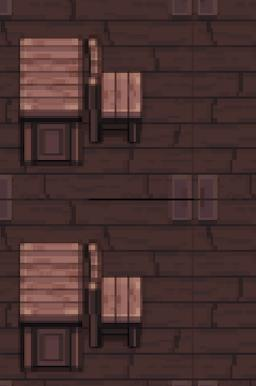Obstacle: (10, 209, 166, 380), (8, 24, 154, 172)
